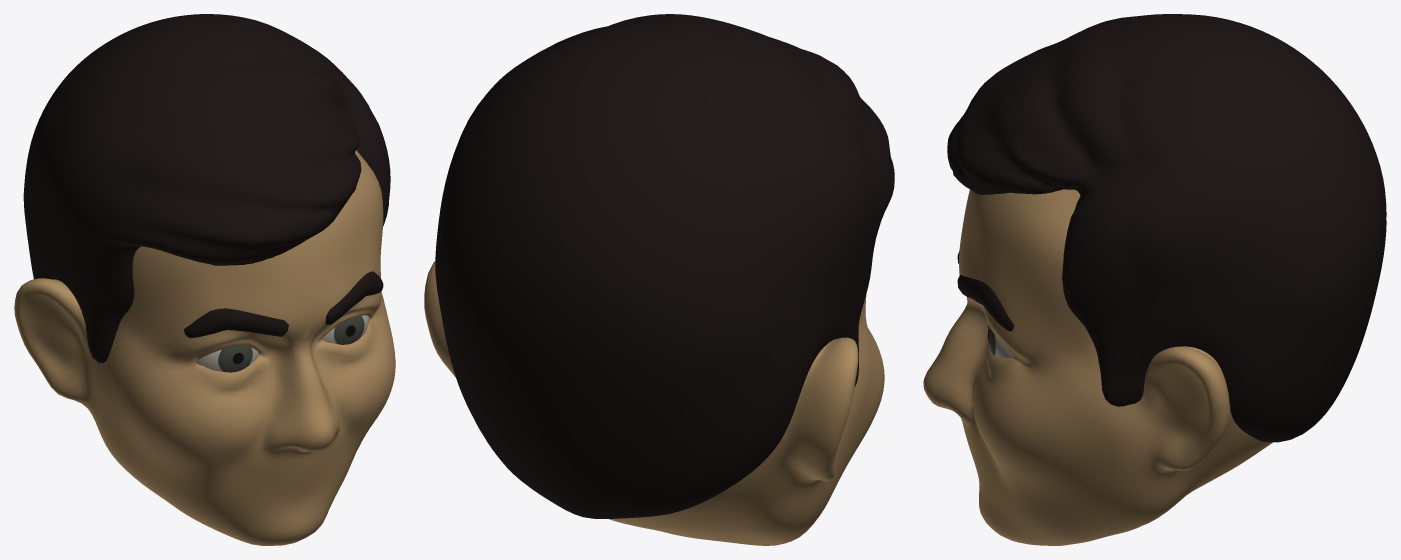
File: head.fbx
3 views of the same model, side by side, from view 1: azimuth 30°, elevation 25°; view 2: azimuth 150°, elevation 25°; view 3: azimuth 270°, elevation 25° (orthographic). The views are drawn at different scales.
Visible parts, largest first — view 1: Head; view 2: Head; view 3: Head.
Boxes of the visible parts, x1,y1,x2,y2 form: Head: [14, 14, 395, 545]; Head: [424, 14, 894, 545]; Head: [923, 14, 1386, 545].
Size of the model in its own units: 32.17 by 39.92 by 33.44.
1 material, 1 textured.
